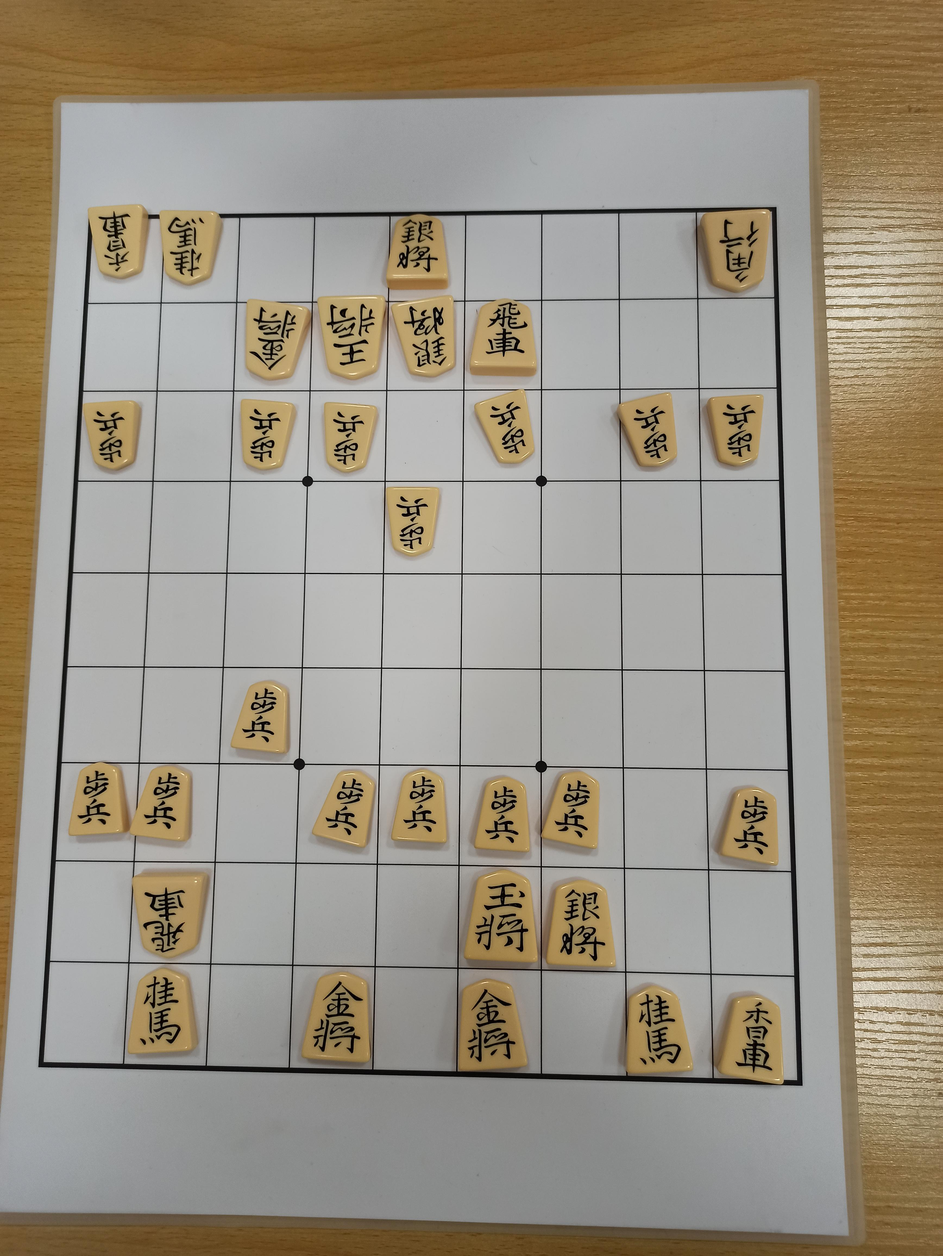board: (42, 211, 799, 1082)
